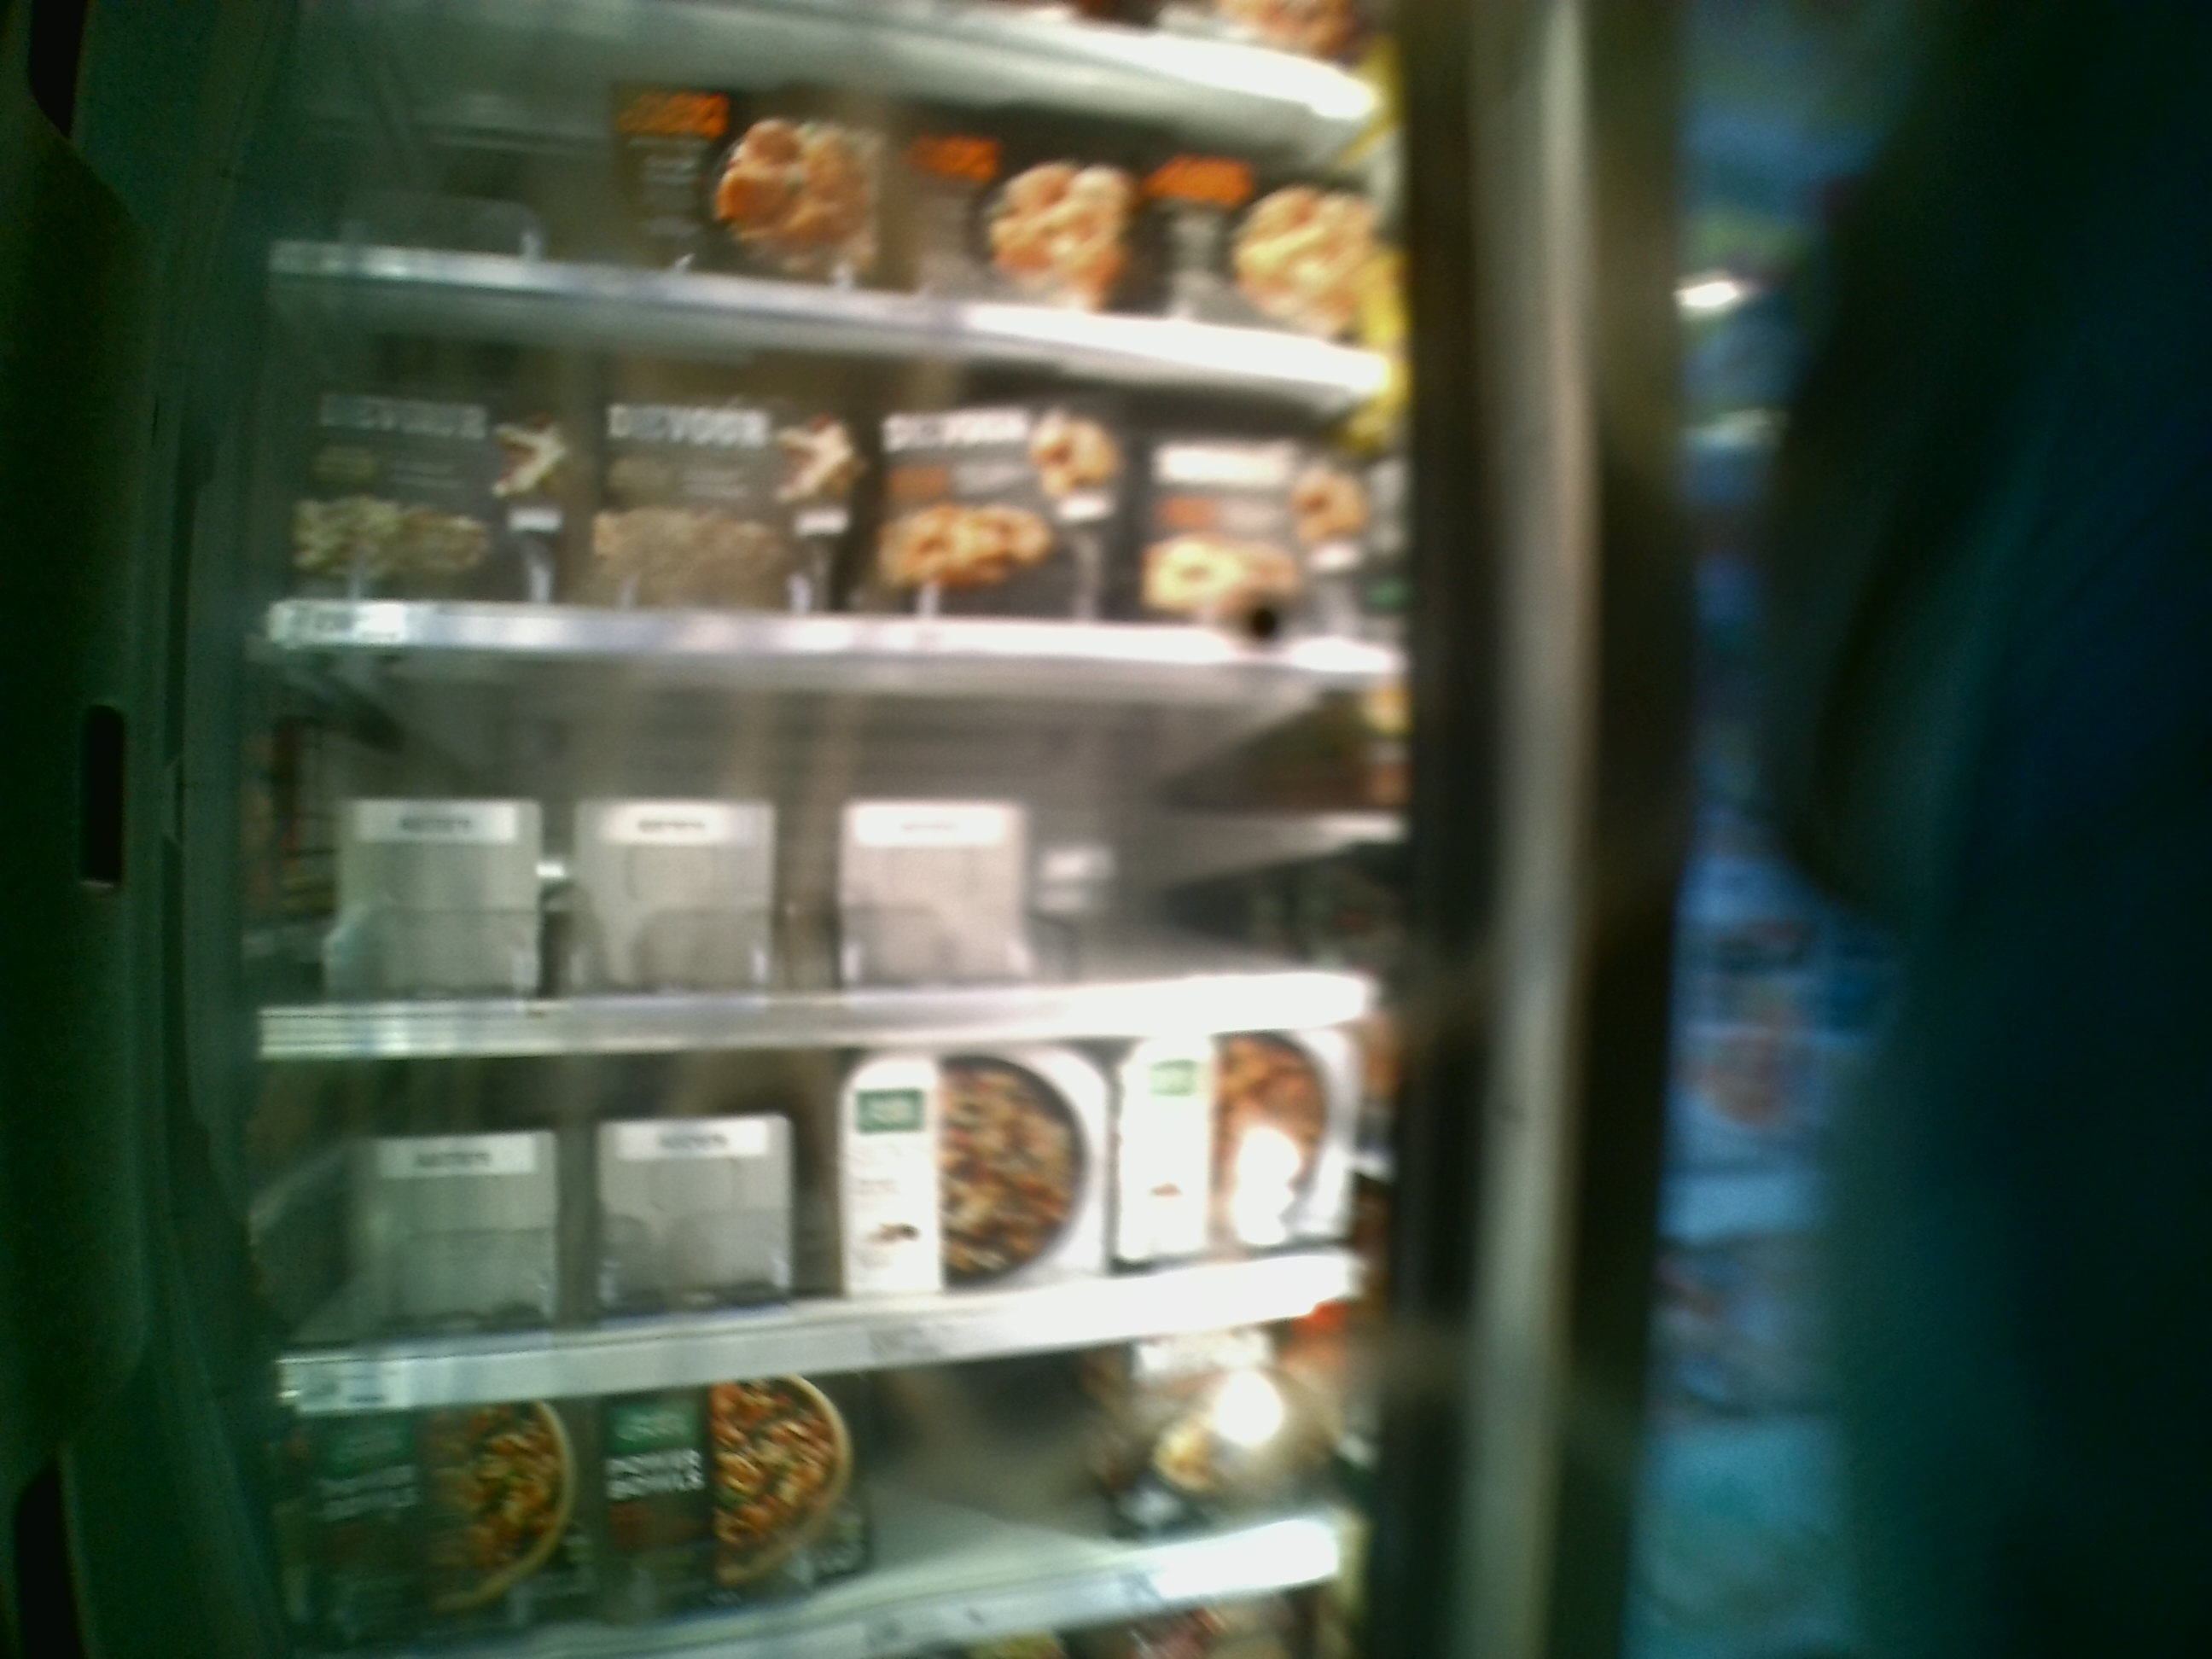Shelf: (246, 641, 1413, 1060), (270, 272, 1388, 671)
